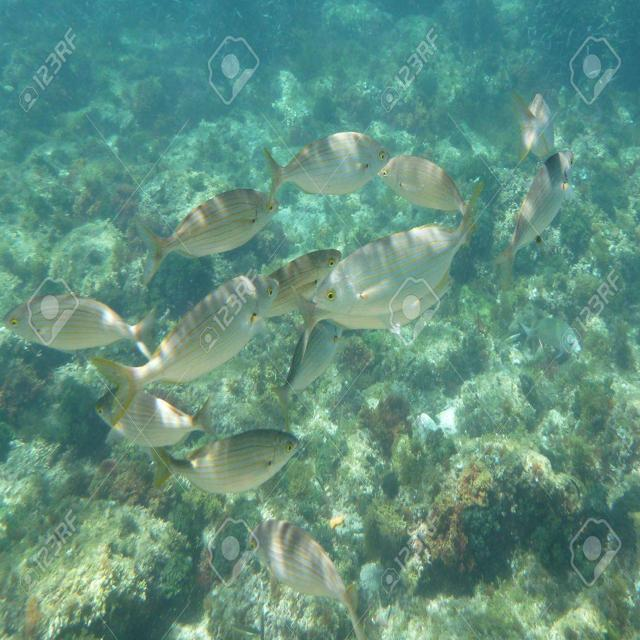fish: (97, 276, 281, 425), (310, 183, 484, 313), (248, 517, 367, 640), (144, 187, 279, 279), (487, 149, 573, 291), (266, 130, 389, 211), (1, 291, 162, 352), (149, 428, 304, 490), (378, 154, 483, 232), (95, 385, 217, 450), (247, 247, 343, 320), (506, 90, 557, 170)
